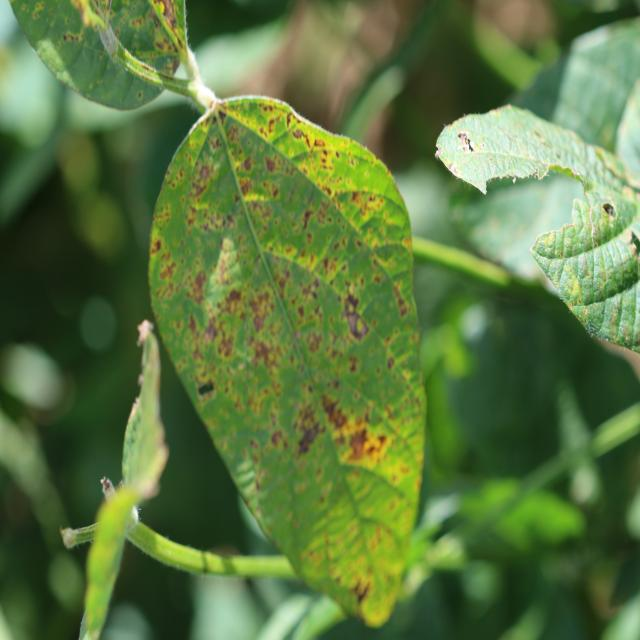Bacterial_Blight: (240, 423, 284, 475), (356, 411, 388, 475), (296, 125, 329, 184), (344, 176, 378, 224), (348, 281, 371, 349), (293, 415, 323, 461), (328, 376, 350, 437), (184, 201, 218, 237), (255, 332, 281, 376), (189, 316, 212, 365), (235, 165, 260, 208), (349, 560, 371, 608), (188, 267, 210, 311), (389, 278, 413, 318), (259, 288, 282, 325), (288, 197, 318, 224), (225, 278, 247, 314), (220, 122, 243, 148), (306, 276, 325, 307), (220, 334, 233, 368)
Soybean: (146, 94, 426, 631)
